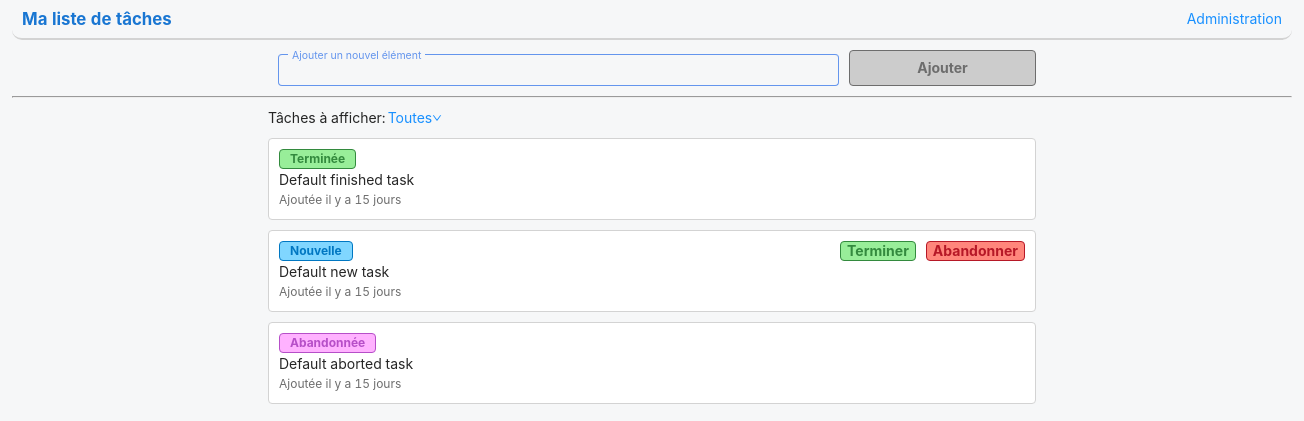
Test case: Todo list app › Display default new todo list
This screenshot has width=1304, height=421.
Click the link with class "filters-dropdown" at (416, 118), box [388,107,443,129]
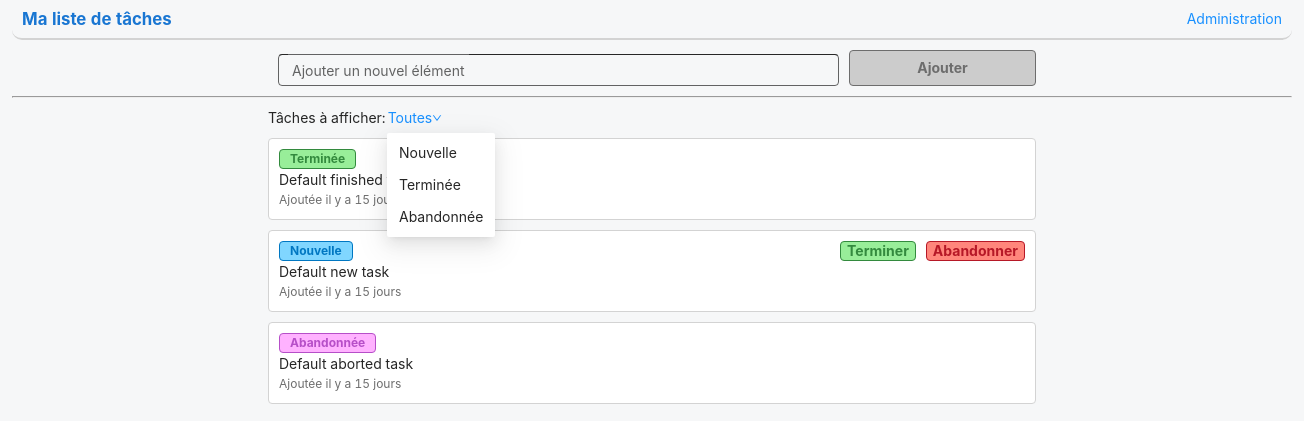
Click the link with class "new-filter-element" at (428, 153), box [399,144,457,161]
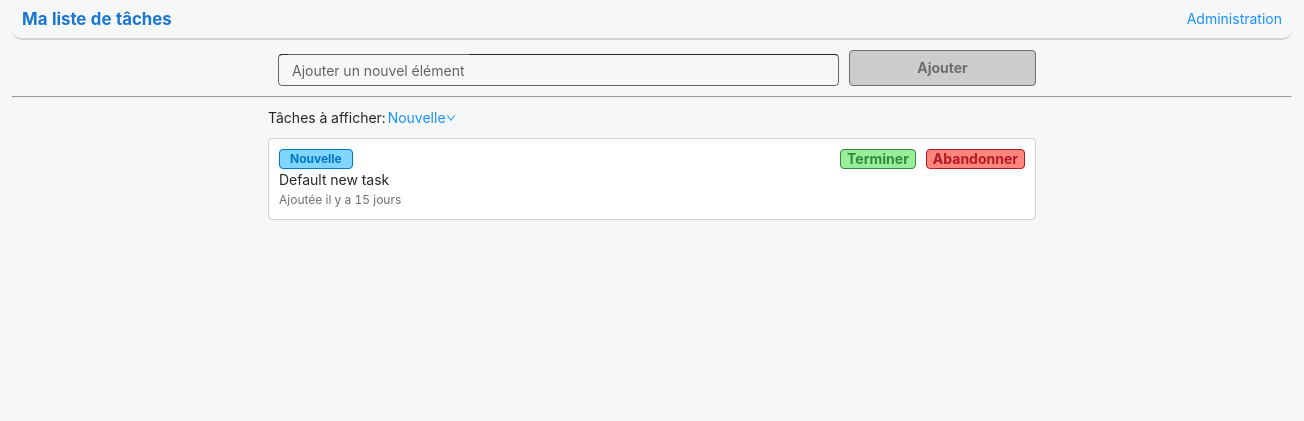
Expected: the number of elements with class "todo-item" is 1, [268,138,1036,220]
